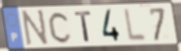4: (101, 8, 122, 44)
7: (149, 7, 167, 42)
C: (47, 11, 73, 45)
L: (123, 7, 148, 43)
N: (21, 8, 50, 47)
T: (73, 10, 93, 43)
